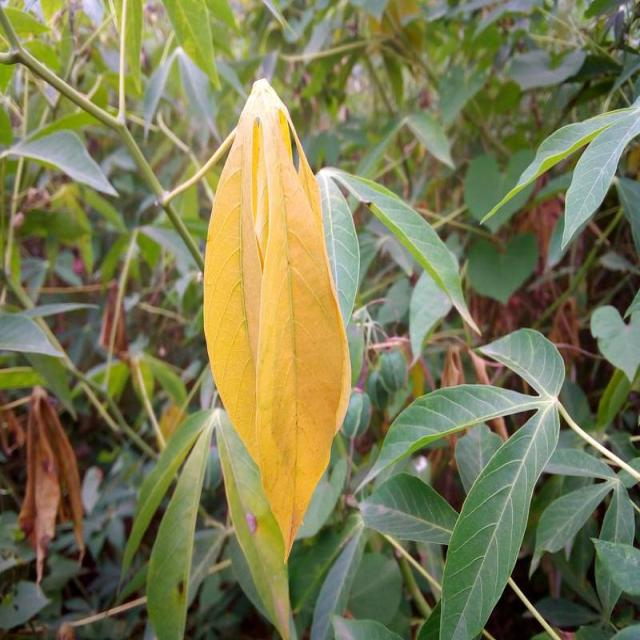cassava leaf: (202, 76, 354, 563)
